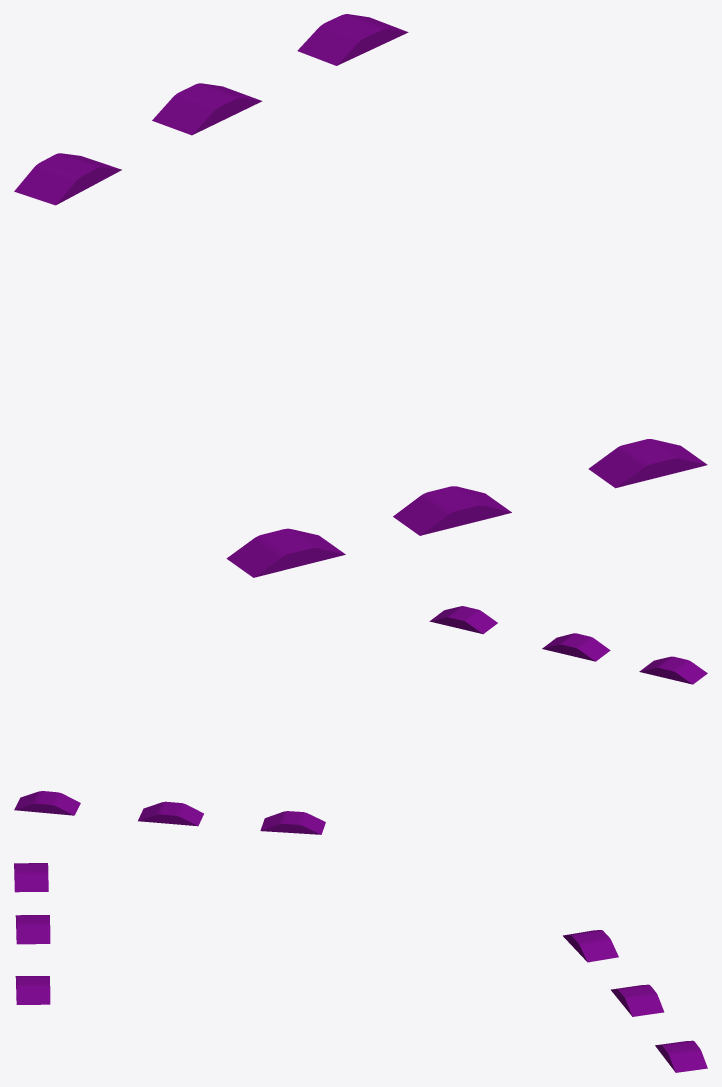
The model's file is RAMPS.fbx.
3 views of the same model, one above another, from view 1: azimuth 30°, elevation 25°; view 2: azimuth 150°, elevation 25°; view 3: azimuth 270°, elevation 25° (orthographic). The views are drawn at different scales.
Visible parts, largest first — view 1: ramp.005, ramp.004, ramp.006, ramp.002, ramp.001, ramp; view 2: ramp, ramp.002, ramp.001, ramp.005, ramp.006, ramp.004; view 3: ramp, ramp.001, ramp.002, ramp.005, ramp.006, ramp.004.
Boxes of the visible parts, <box> form: ramp.005: <box>393,486,511,535</box>; ramp.004: <box>588,439,707,488</box>; ramp.006: <box>226,528,345,577</box>; ramp.002: <box>297,14,408,65</box>; ramp.001: <box>152,83,262,135</box>; ramp: <box>14,153,121,205</box>; ramp: <box>260,811,325,834</box>; ramp.002: <box>14,791,80,815</box>; ramp.001: <box>138,801,203,826</box>; ramp.005: <box>542,633,610,661</box>; ramp.006: <box>639,656,707,684</box>; ramp.004: <box>429,606,497,634</box>; ramp: <box>563,930,618,962</box>; ramp.001: <box>611,984,664,1016</box>; ramp.002: <box>655,1040,707,1072</box>; ramp.005: <box>15,915,50,944</box>; ramp.006: <box>14,863,48,892</box>; ramp.004: <box>15,976,50,1004</box>.
Bounding box in the file's own units: 3488 × 2496 × 55.15.
